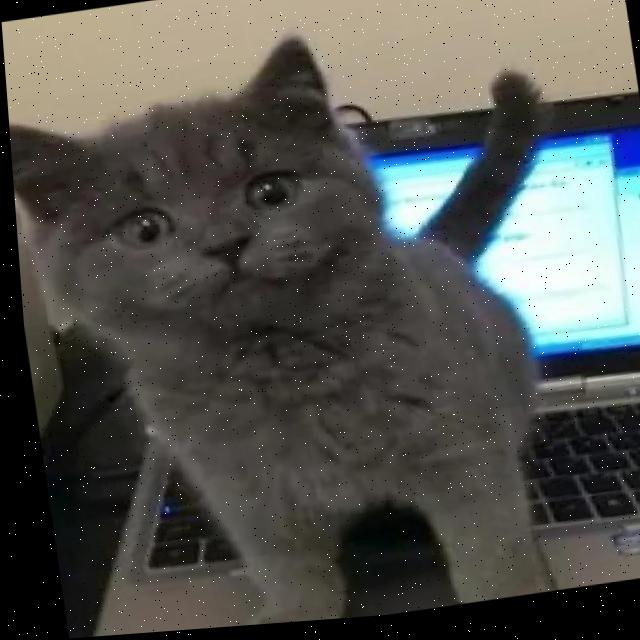Cats: (2, 2, 640, 640)
